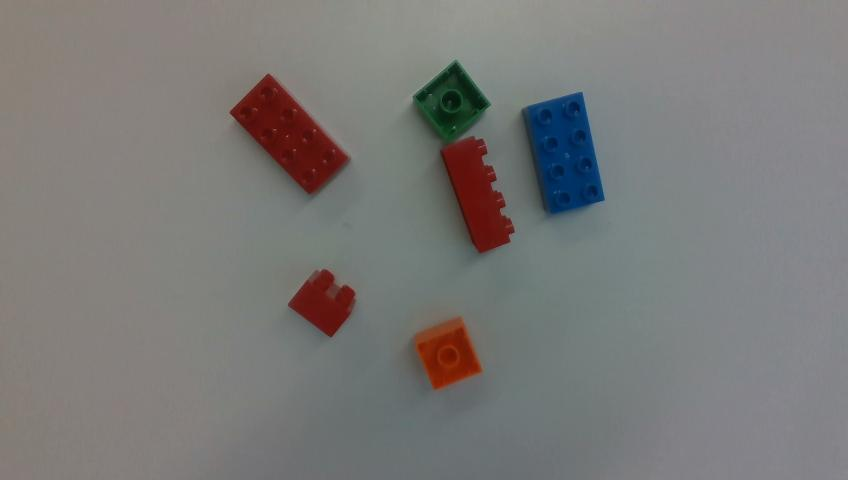2x2_green: (413, 60, 489, 143)
2x2_orange: (415, 317, 481, 389)
2x2_red: (291, 269, 355, 336)
4x2_blue: (522, 92, 603, 214)
4x2_red: (230, 74, 348, 193), (442, 137, 514, 252)
